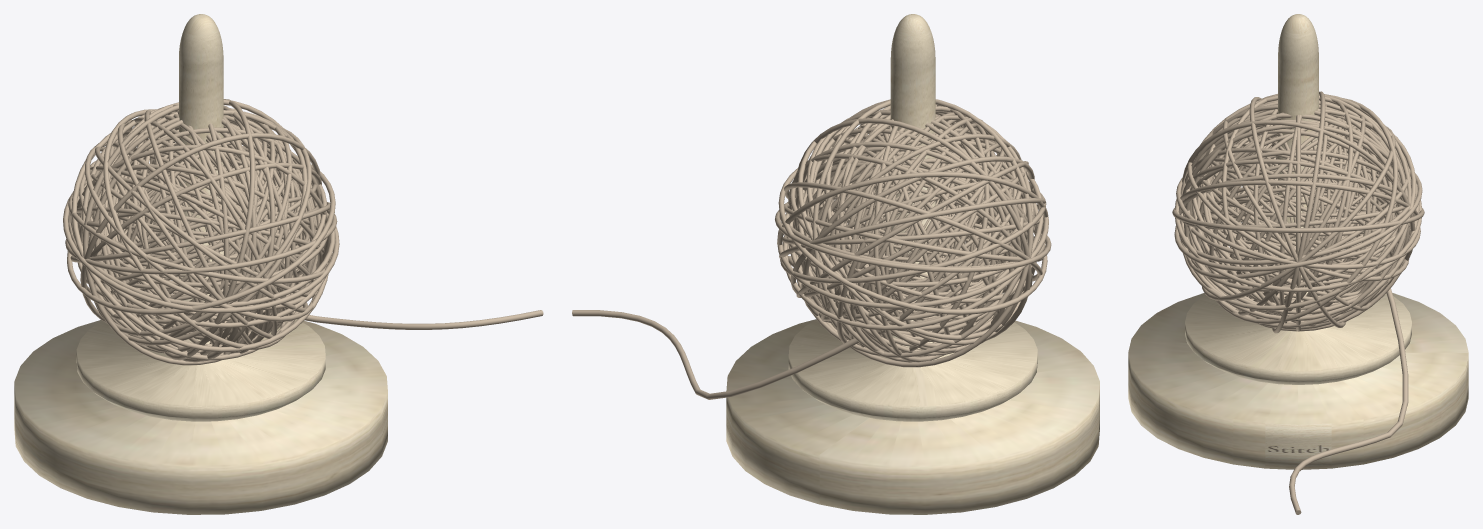
Rendered from yarn-stand.glb.
The picture shows the model from 3 angles, left to right: view 1: azimuth 30°, elevation 25°; view 2: azimuth 150°, elevation 25°; view 3: azimuth 270°, elevation 25°; orthographic projection. The views are drawn at different scales.
Visible parts, largest first — view 1: Cylinder.001, Cylinder, BézierCircle.017, BézierCircle.019, BézierCircle.009, BézierCircle.015, BézierCircle.016, BézierCircle.129, BézierCurve, BézierCircle.139, BézierCircle.018, BézierCircle.136 (+32 smaller); view 2: Cylinder.001, Cylinder, BézierCurve, BézierCircle.016, BézierCircle.009, BézierCircle.015, BézierCircle.019, BézierCircle.129, BézierCircle.018, BézierCircle.014, BézierCircle.139, BézierCircle.017 (+33 smaller); view 3: Cylinder.001, Cylinder, BézierCurve, BézierCircle.139, BézierCircle.019, BézierCircle.129, BézierCircle.010, BézierCircle.136, BézierCircle.018, BézierCircle.009, BézierCircle.138, BézierCircle.017 (+37 smaller).
Boxes of the visible parts, left/top/right/bottom form: Cylinder.001: left=14, top=319, right=387, bottom=514; Cylinder: left=76, top=14, right=325, bottom=421; BézierCircle.017: left=71, top=132, right=328, bottom=352; BézierCircle.019: left=63, top=180, right=339, bottom=313; BézierCircle.009: left=67, top=164, right=335, bottom=314; BézierCircle.015: left=82, top=99, right=282, bottom=365; BézierCircle.016: left=81, top=133, right=321, bottom=323; BézierCircle.129: left=103, top=109, right=294, bottom=349; BézierCurve: left=86, top=221, right=543, bottom=329; BézierCircle.139: left=85, top=143, right=317, bottom=321; BézierCircle.018: left=65, top=209, right=337, bottom=274; BézierCircle.136: left=154, top=99, right=255, bottom=360; Cylinder.001: left=726, top=319, right=1099, bottom=514; Cylinder: left=788, top=14, right=1037, bottom=421; BézierCurve: left=572, top=214, right=1024, bottom=399; BézierCircle.016: left=826, top=99, right=1033, bottom=367; BézierCircle.009: left=778, top=168, right=1047, bottom=314; BézierCircle.015: left=795, top=118, right=1031, bottom=340; BézierCircle.019: left=775, top=210, right=1051, bottom=272; BézierCircle.129: left=777, top=171, right=1047, bottom=266; BézierCircle.018: left=777, top=210, right=1048, bottom=308; BézierCircle.014: left=783, top=172, right=1043, bottom=330; BézierCircle.139: left=779, top=198, right=1046, bottom=259; BézierCircle.017: left=784, top=182, right=1042, bottom=281; Cylinder.001: left=1128, top=293, right=1468, bottom=469; Cylinder: left=1185, top=14, right=1411, bottom=384; BézierCurve: left=1289, top=199, right=1408, bottom=514; BézierCircle.139: left=1183, top=134, right=1416, bottom=310; BézierCircle.019: left=1174, top=173, right=1422, bottom=271; BézierCircle.129: left=1216, top=98, right=1397, bottom=324; BézierCircle.010: left=1174, top=199, right=1422, bottom=292; BézierCircle.136: left=1182, top=120, right=1415, bottom=260; BézierCircle.018: left=1176, top=178, right=1420, bottom=269; BézierCircle.009: left=1172, top=194, right=1424, bottom=232; BézierCircle.138: left=1217, top=94, right=1411, bottom=327; BézierCircle.017: left=1202, top=126, right=1395, bottom=300.
Size of the model in its own units: 0.4654 by 0.3714 by 0.3.
3 materials, 2 textured.
